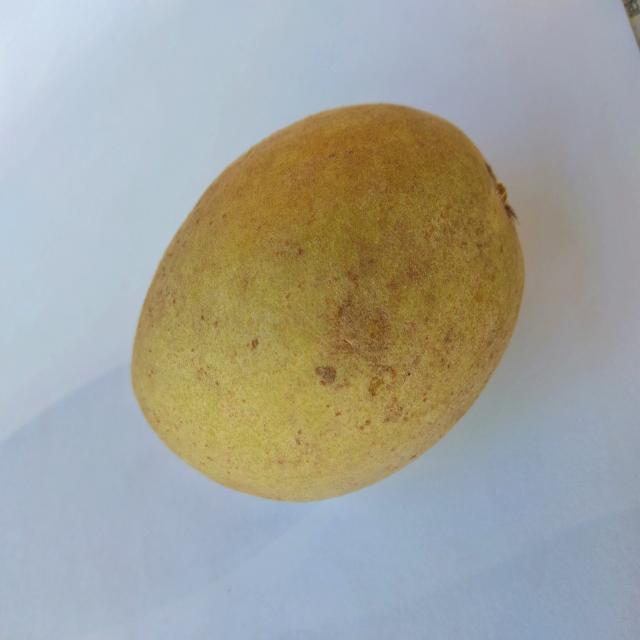mentah: (129, 101, 532, 505)
